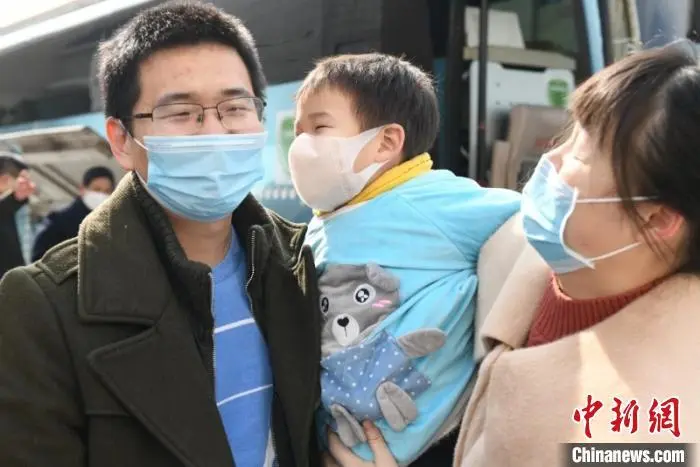withmask: (514, 40, 700, 312), (91, 8, 276, 230), (289, 52, 449, 210)
